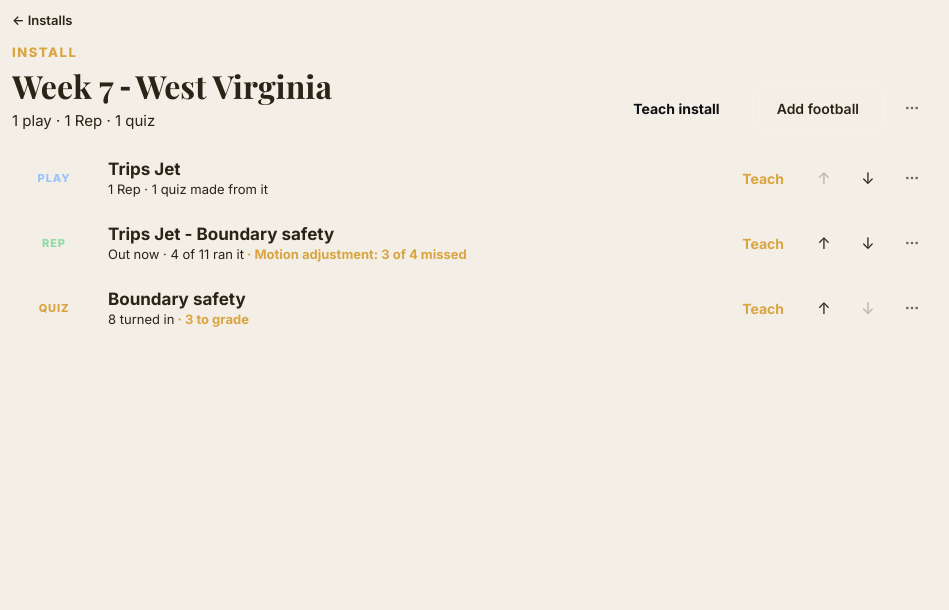
Test: Adding and taking out - by reference › Add football finds what he has; what is already in says so
Check: the heading named "Week 7 - West Virginia" is shown, box [12,64,332,107]
Click the button "Add football" at point(818, 108), box [752,86,884,130]
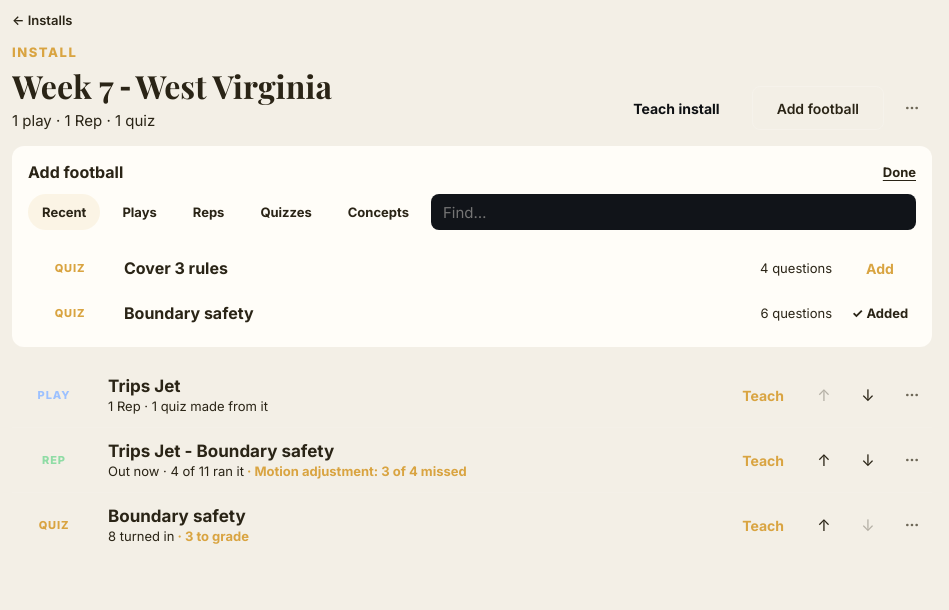
Check: the text "Cover 3 rules" is shown, box [124,258,228,278]
Check: the text "✓ Added" is shown, box [852,305,908,321]
Click the button "Add" at point(880, 268), box [844,250,916,286]
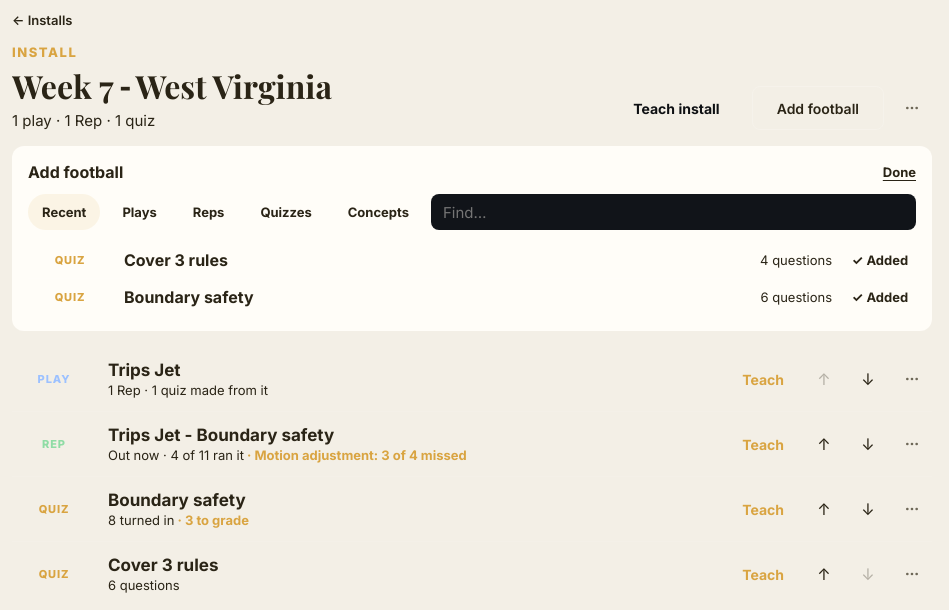
Check: the text "✓ Added" is shown 2 times, box [852,252,908,268]; [852,289,908,305]
Note: Narrowed by a few letters.
Type "zzz" into the search field named "Find football" at point(674, 212), box [431,194,916,230]
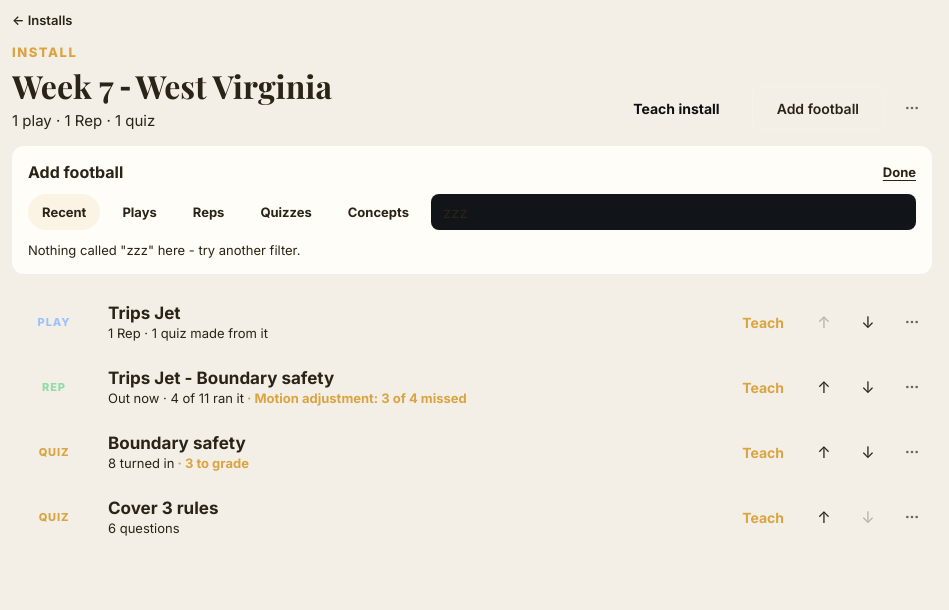
Check: the text "Nothing called \"zzz\" here - try another filter." is shown, box [28,242,300,258]
